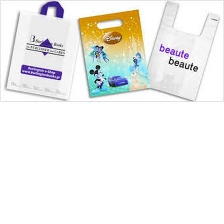plastic_bag: (140, 0, 224, 106), (0, 0, 83, 101), (72, 3, 157, 99)
